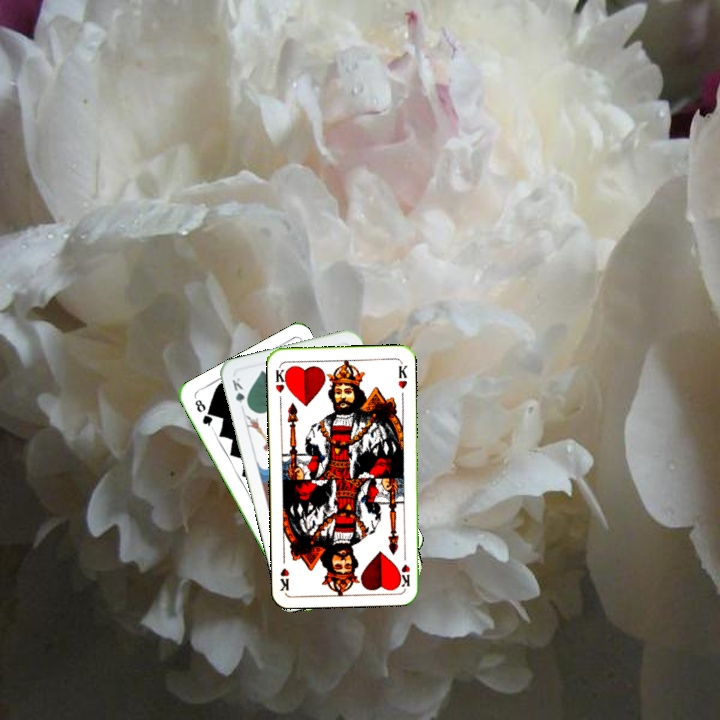G8: (191, 395, 216, 431)
GK: (228, 374, 251, 413)
HK: (395, 549, 413, 589), (271, 363, 290, 395)
